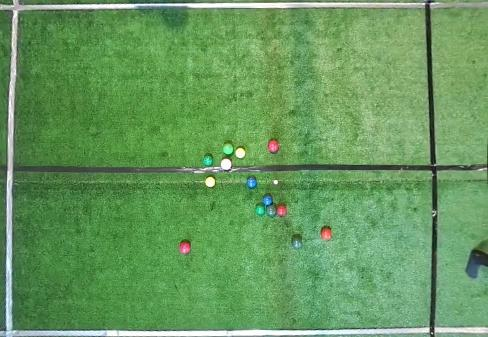blue: (262, 194, 273, 205), (247, 177, 257, 187)
green: (222, 143, 234, 155), (291, 235, 302, 248), (266, 205, 277, 217), (203, 154, 213, 166), (255, 204, 265, 215)
red: (180, 241, 191, 254), (321, 227, 332, 240), (268, 140, 278, 153), (221, 159, 232, 170), (276, 206, 286, 216)
vline: (424, 0, 487, 336), (0, 0, 20, 336)
white: (273, 180, 278, 185)
yellow: (205, 177, 215, 187), (235, 148, 245, 158)
